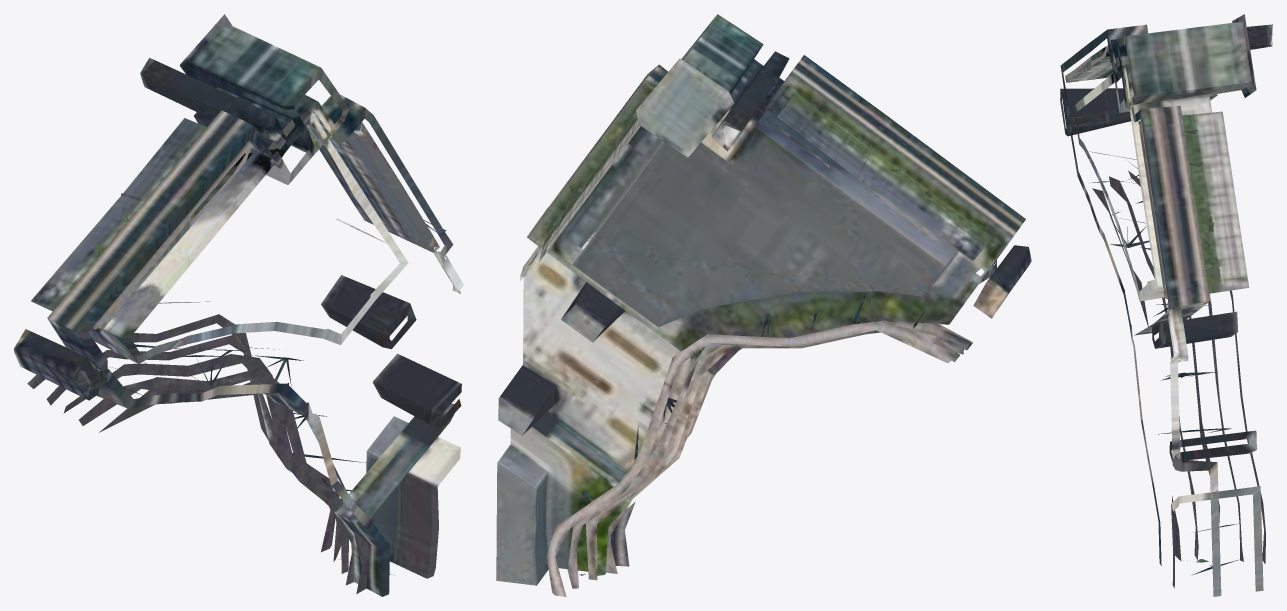
File: tile_168.glb
3 views of the same model, side by side, from view 1: azimuth 30°, elevation 25°; view 2: azimuth 150°, elevation 25°; view 3: azimuth 270°, elevation 25° (orthographic). The views are drawn at different scales.
Size of the model in its own units: 109 by 126 by 48.4.
1 material, 1 textured.
